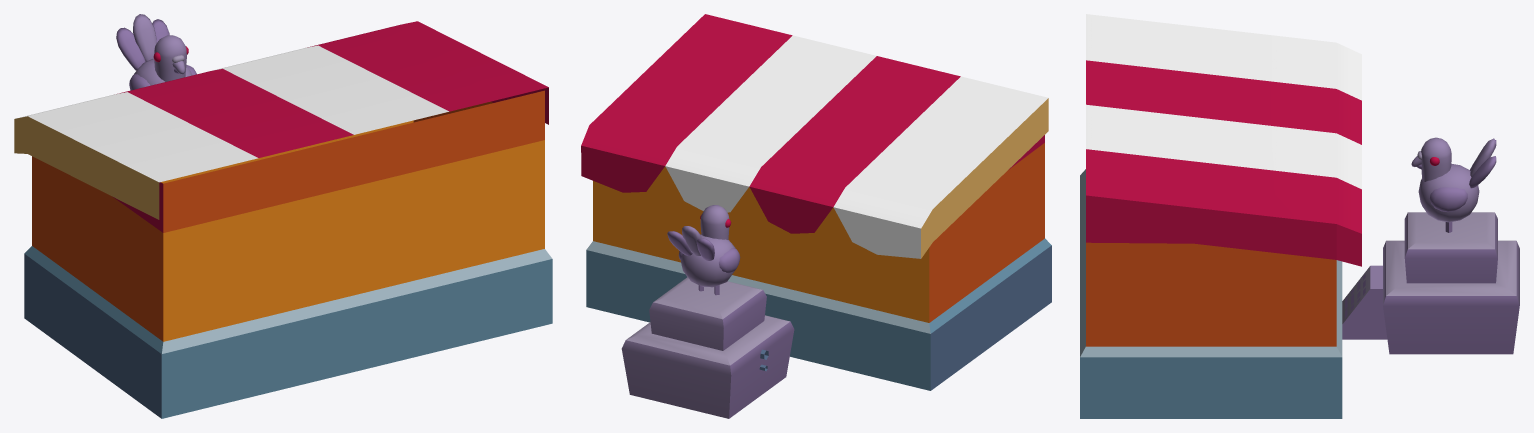
Rendered from mesh_props.fbx.
3 views of the same model, side by side, from view 1: azimuth 30°, elevation 25°; view 2: azimuth 150°, elevation 25°; view 3: azimuth 270°, elevation 25° (orthographic). The views are drawn at different scales.
Parts seen in each view (by area): view 1: mesh_building, mesh_statue; view 2: mesh_building, mesh_statue; view 3: mesh_building, mesh_statue.
Boxes of the visible parts, left/top/right/bottom form: mesh_building: left=14, top=21, right=552, bottom=418; mesh_statue: left=116, top=14, right=196, bottom=90; mesh_building: left=581, top=14, right=1051, bottom=390; mesh_statue: left=621, top=205, right=794, bottom=418; mesh_building: left=1080, top=14, right=1361, bottom=418; mesh_statue: left=1342, top=137, right=1519, bottom=354.
Bounding box in the file's own units: 6.14 × 3.52 × 6.28.
Materials: 2 (2 with a texture image).
